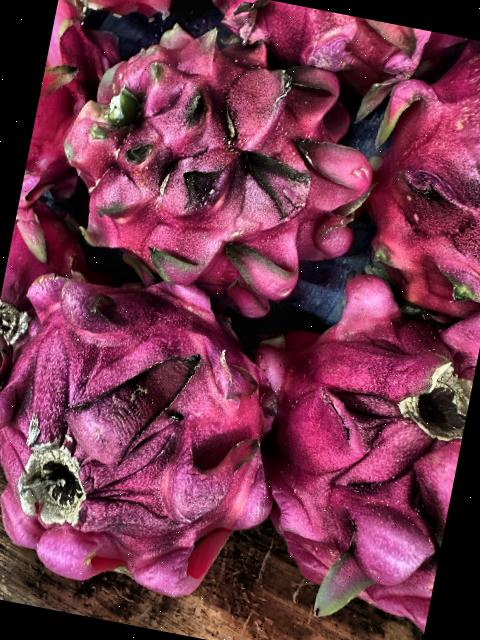buah-naga-matang: (24, 2, 399, 322), (0, 236, 311, 615), (220, 249, 480, 640), (349, 26, 480, 324), (15, 0, 136, 236), (194, 0, 429, 95), (0, 192, 93, 407)
